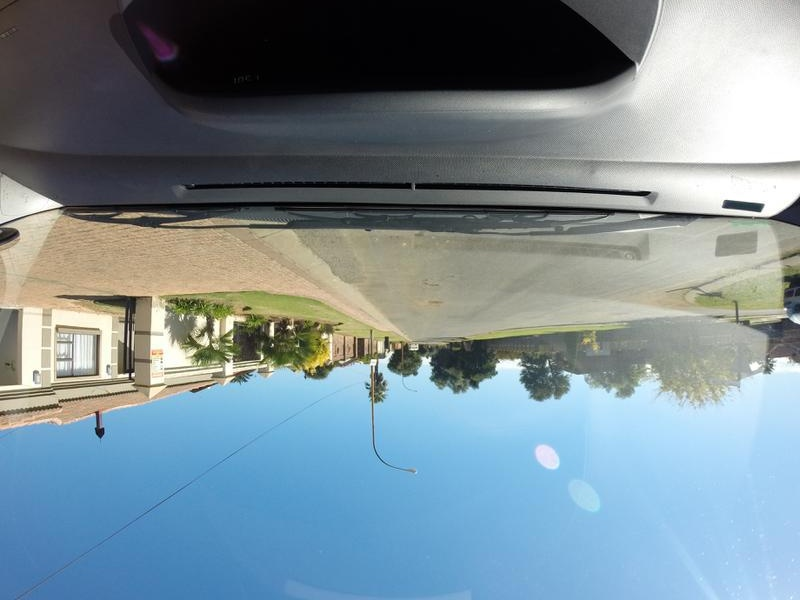pothole: (422, 292, 460, 312)
